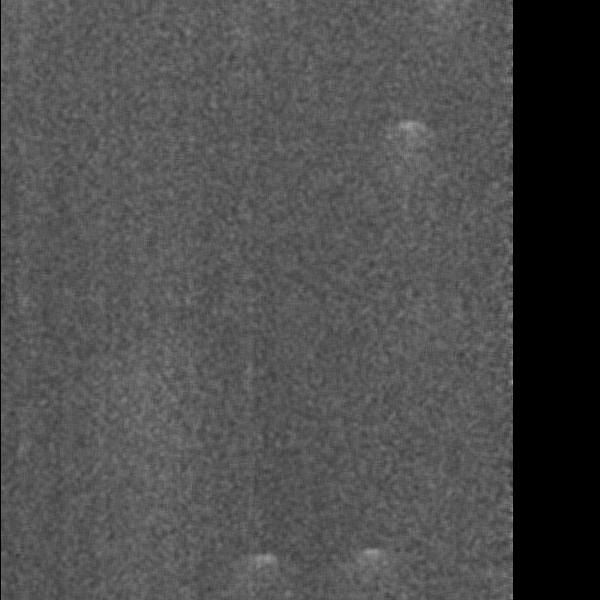spark: (349, 543, 385, 585), (387, 118, 429, 151), (243, 545, 284, 578)
